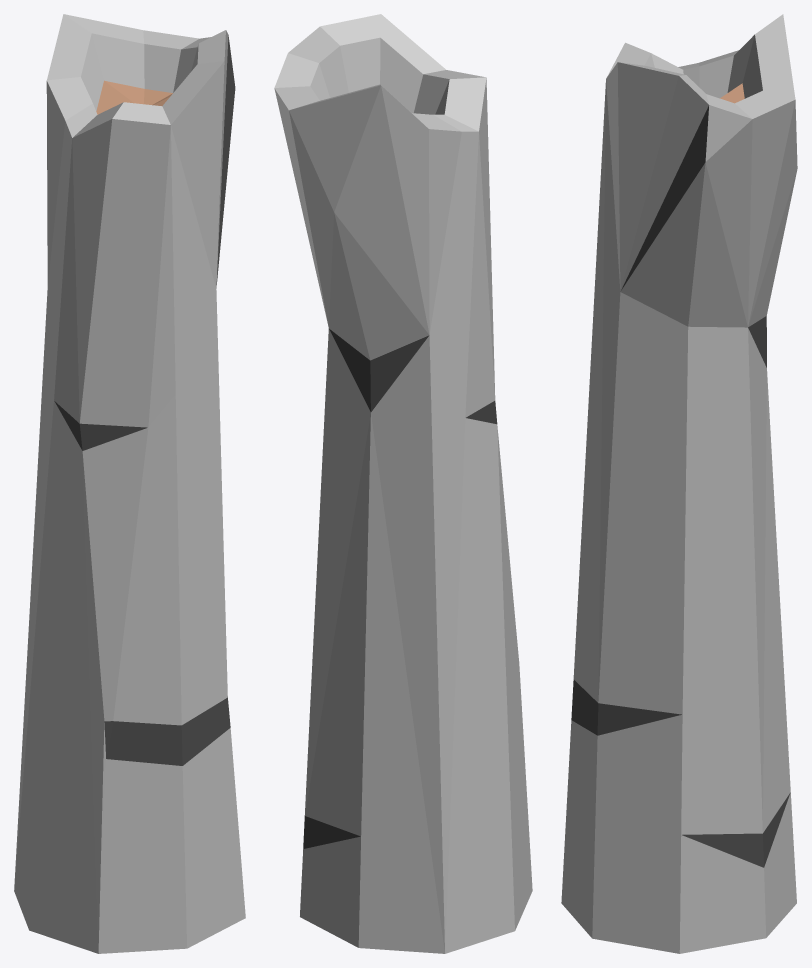
File: mesh_stump_birch_01.fbx
3 renders of one model, left to right at view 1: azimuth 30°, elevation 25°; view 2: azimuth 150°, elevation 25°; view 3: azimuth 270°, elevation 25°, orthographic. The views are drawn at different scales.
Visible parts, largest first — view 1: mesh_stump_birch_01; view 2: mesh_stump_birch_01; view 3: mesh_stump_birch_01.
Boxes of the visible parts, left/top/right/bottom form: mesh_stump_birch_01: left=14, top=14, right=245, bottom=953; mesh_stump_birch_01: left=274, top=14, right=532, bottom=953; mesh_stump_birch_01: left=561, top=14, right=797, bottom=953.
Bounding box in the file's own units: 0.3002 × 1.13 × 0.2744.
